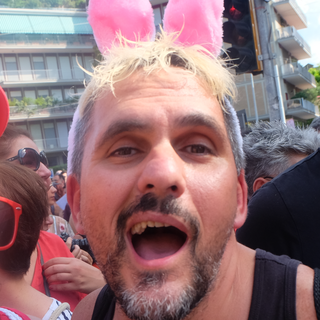eye: (169, 135, 217, 162), (103, 140, 149, 162)
